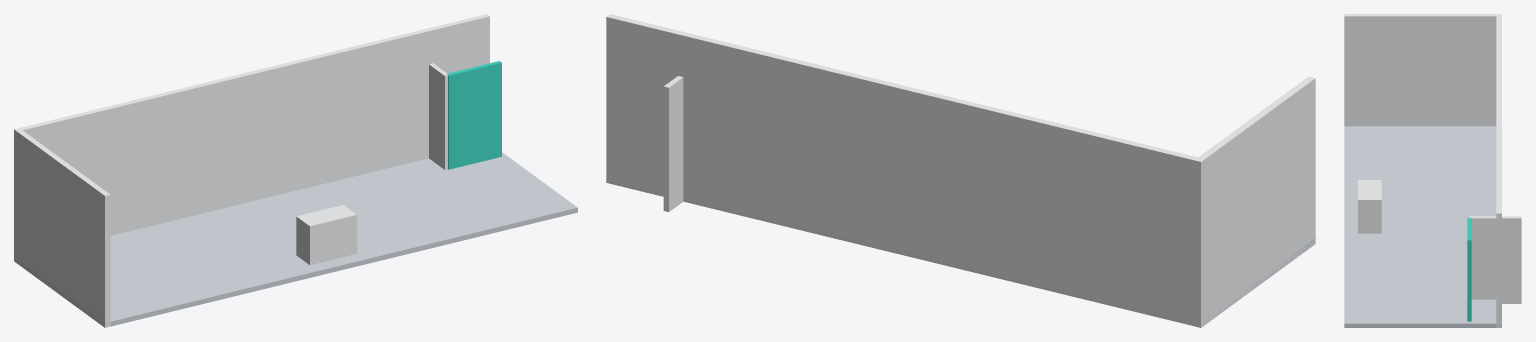
3 renders of one model, left to right at view 1: azimuth 30°, elevation 25°; view 2: azimuth 150°, elevation 25°; view 3: azimuth 270°, elevation 25°, orthographic. The views are drawn at different scales.
Parts seen in each view (by area): view 1: Exhibition Booth Concept; view 2: Exhibition Booth Concept; view 3: Exhibition Booth Concept.
Boxes of the visible parts, bbox=[...] form: Exhibition Booth Concept: bbox=[14, 14, 577, 327]; Exhibition Booth Concept: bbox=[606, 14, 1315, 327]; Exhibition Booth Concept: bbox=[1344, 14, 1521, 327].
Size of the model in its own units: 12 by 3.2 by 4.51.
